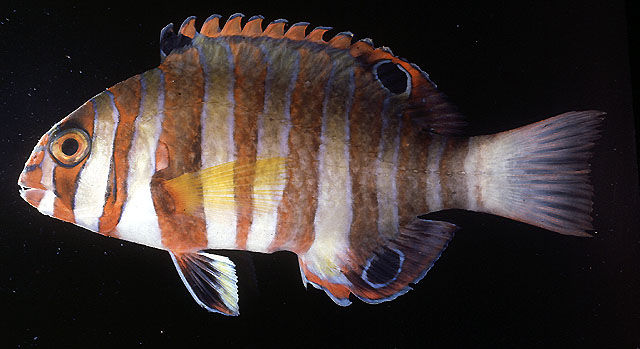fish: (20, 14, 607, 318)
